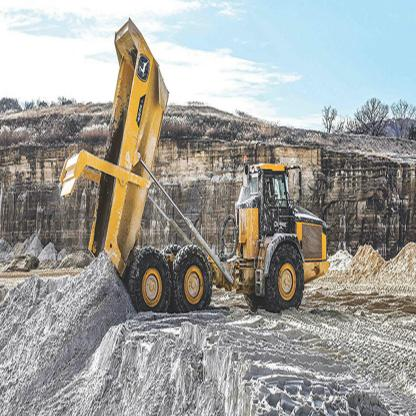dump_truck: (64, 13, 328, 311)
